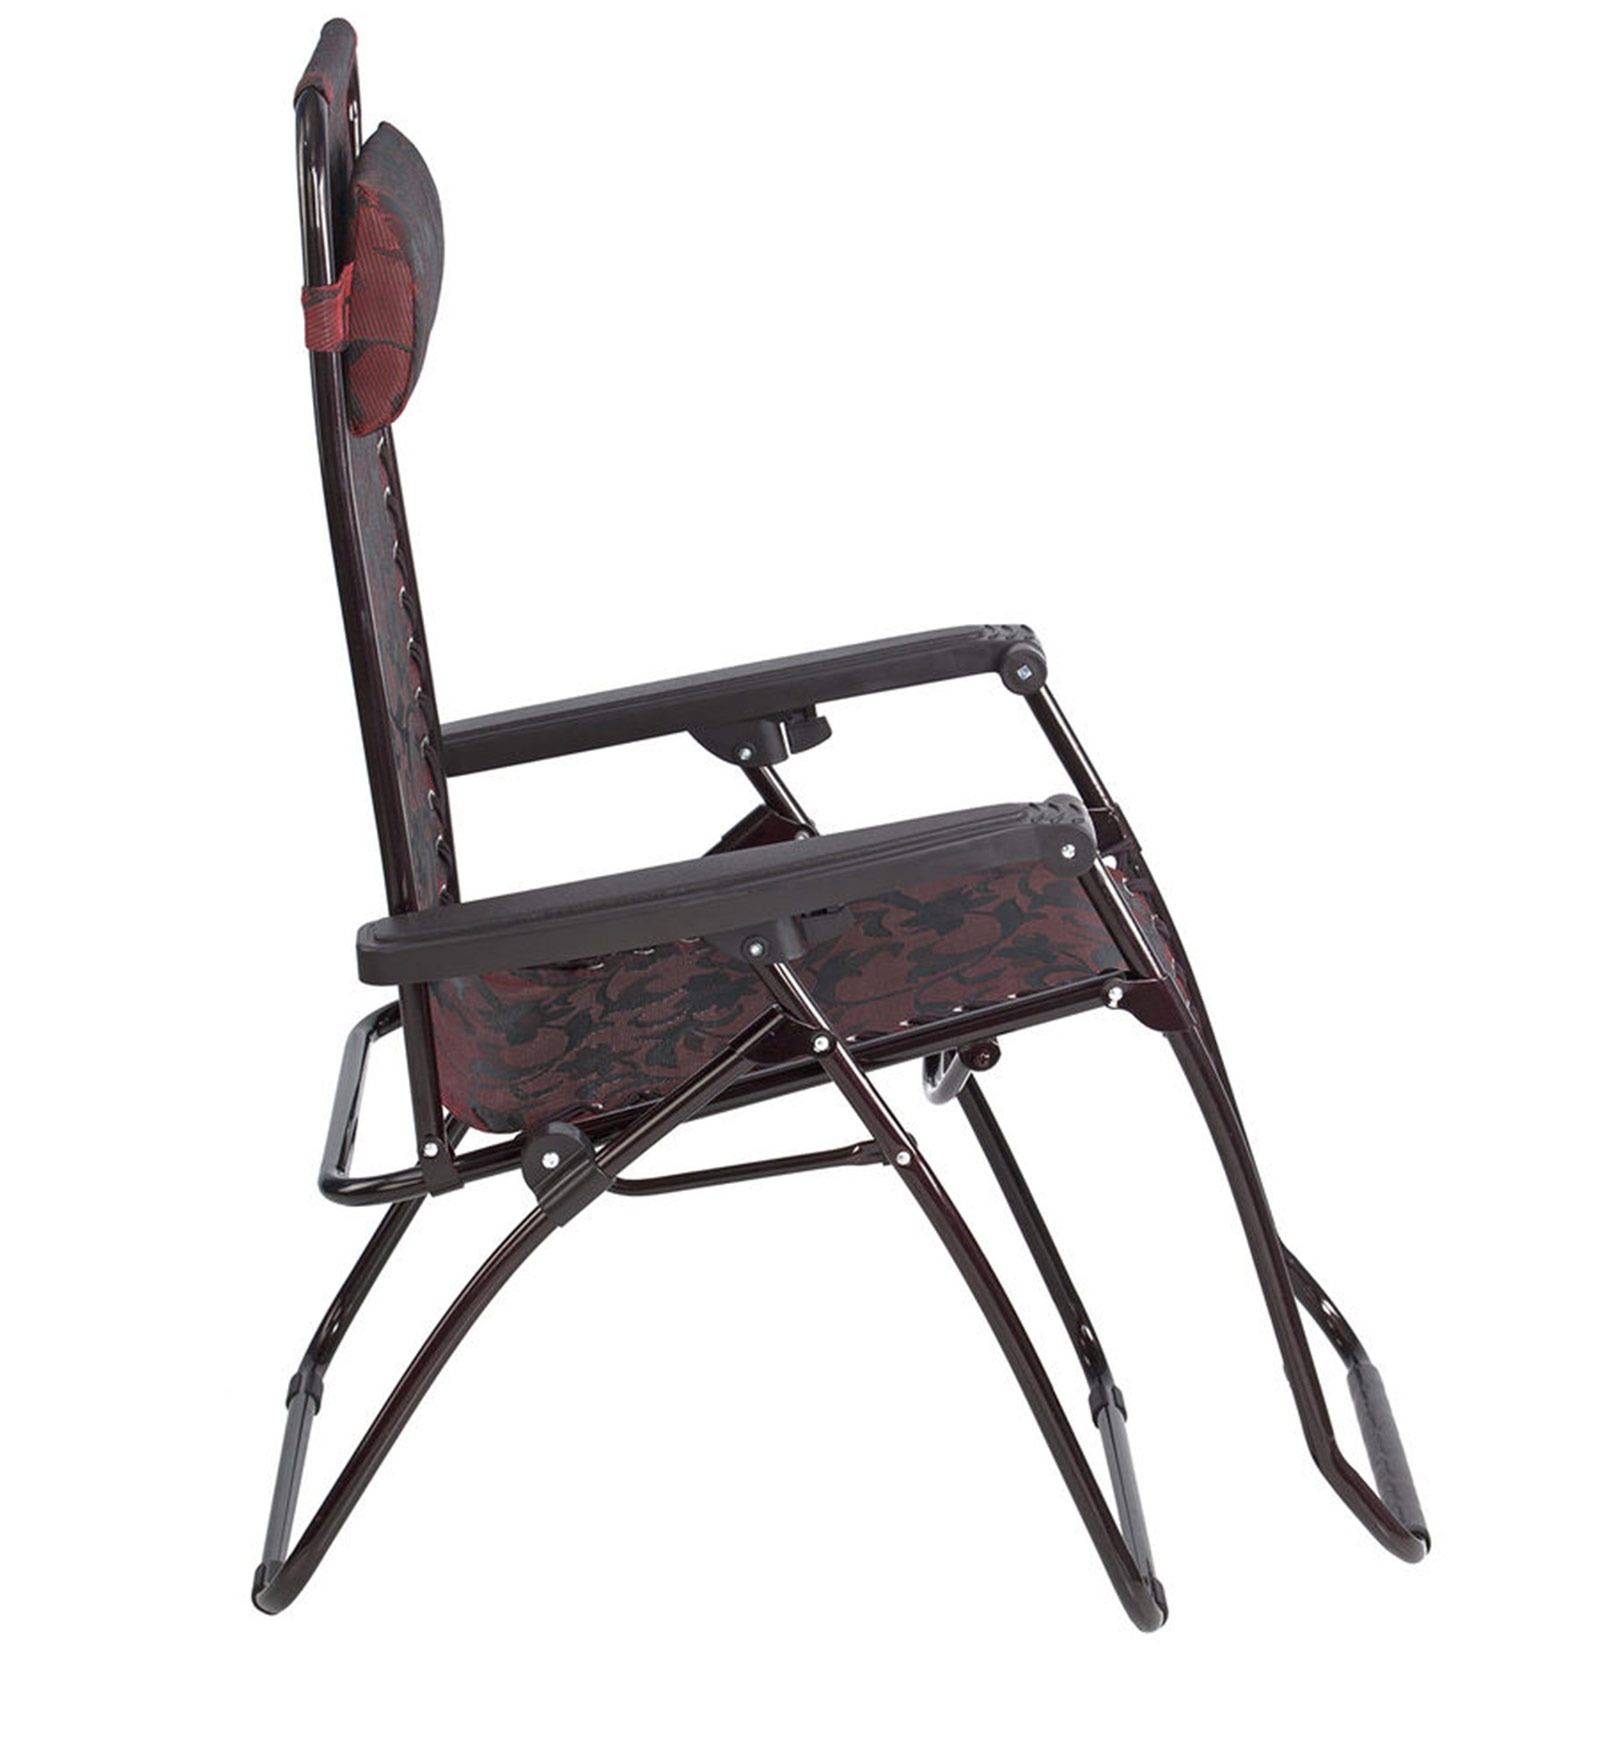Frolic Easy Foldable Chair in Purple & Red Colour by Nilkamal: (201, 9, 1510, 1726)
